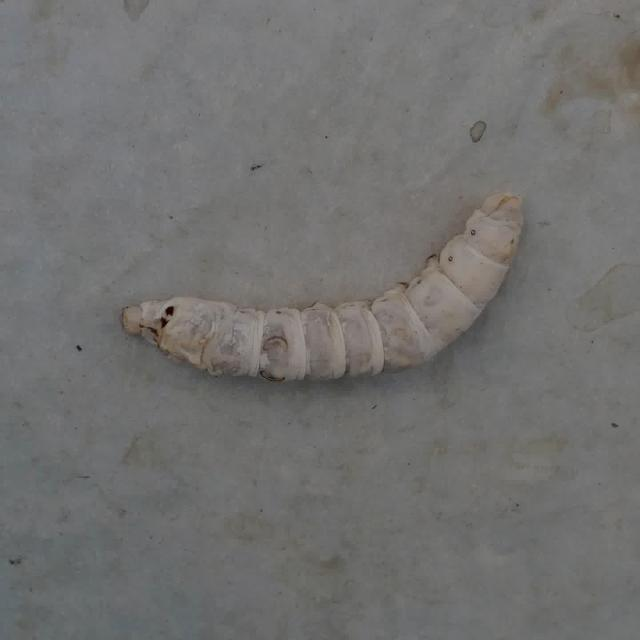Grasserie: (107, 180, 540, 399)
